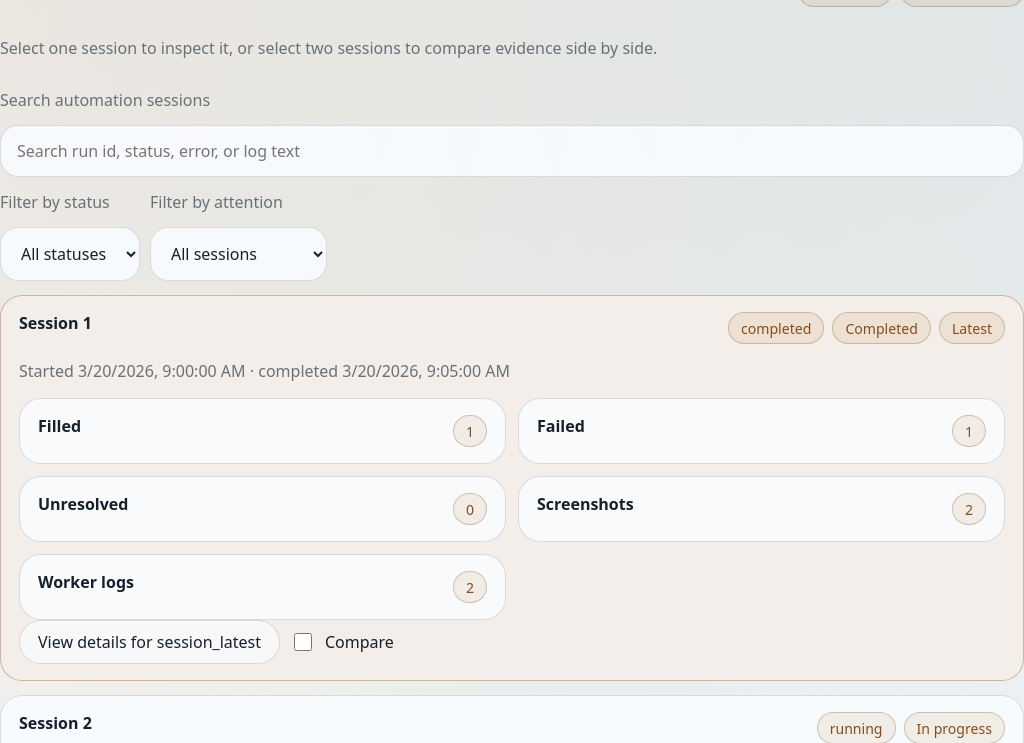
AutomationSessionHistory › filters sessions by status and can clear filters from an empty result
Select "Queued" in the dropdown labelled "Filter by status" at (70, 254), box [0, 227, 140, 281]
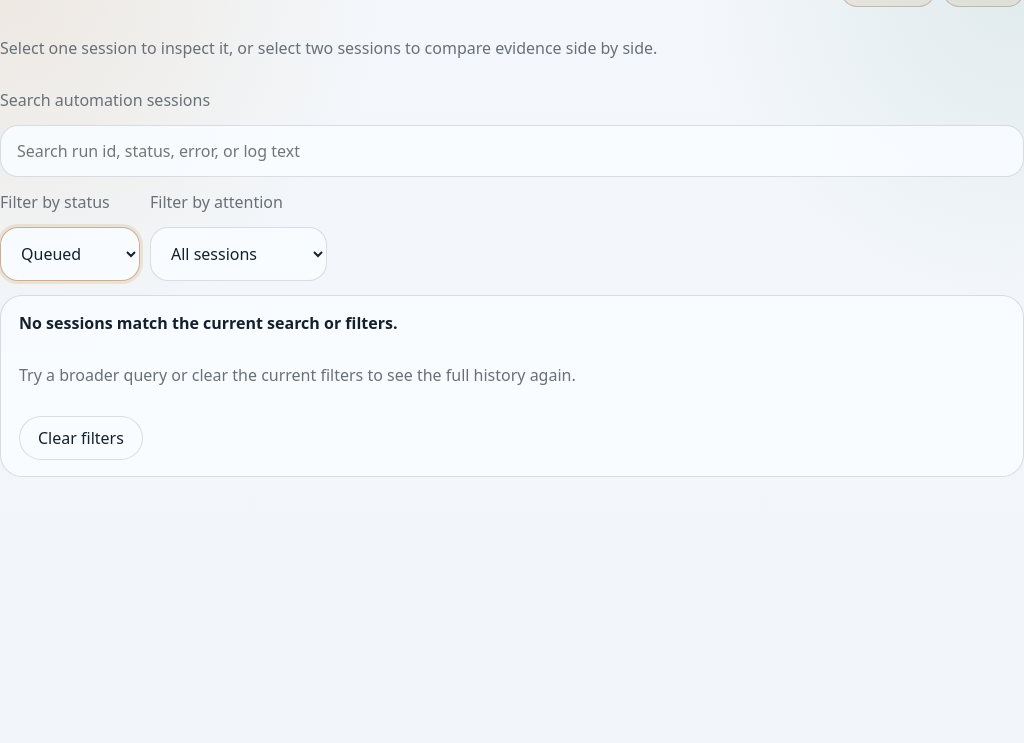
Result: the text "No sessions match the current search or filters." is shown at [19, 312, 398, 334]
Click the button "Clear filters".
click(81, 438)  # box [19, 416, 143, 460]
(page scrolled)
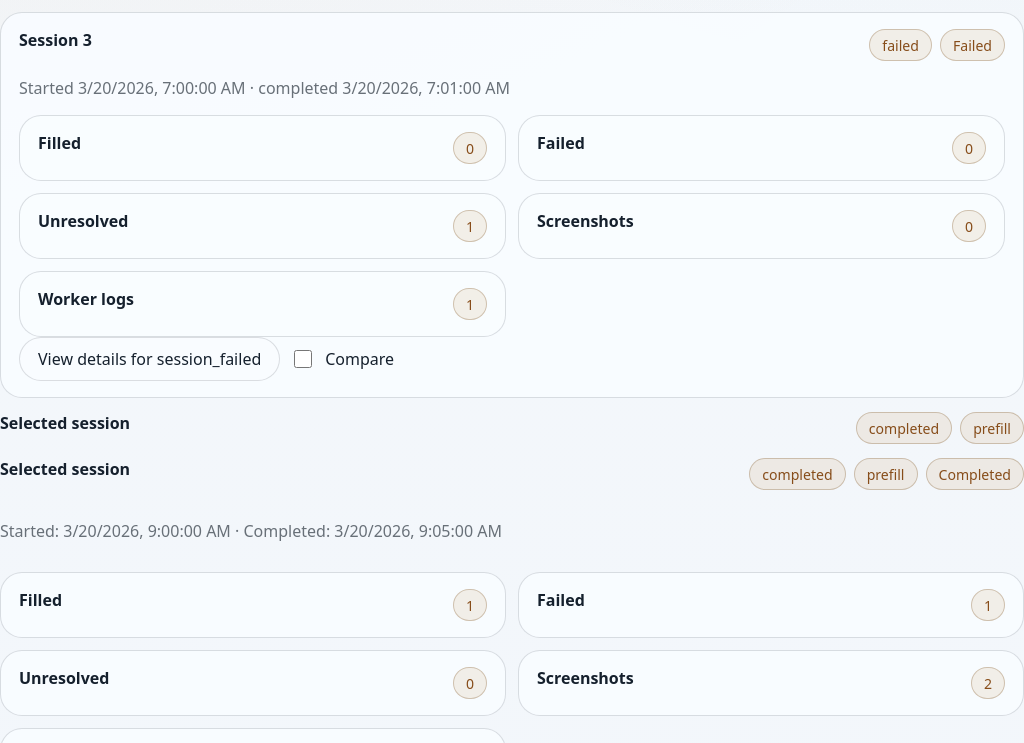
Result: the button "View details for session_failed" is shown at [19, 337, 280, 381]
